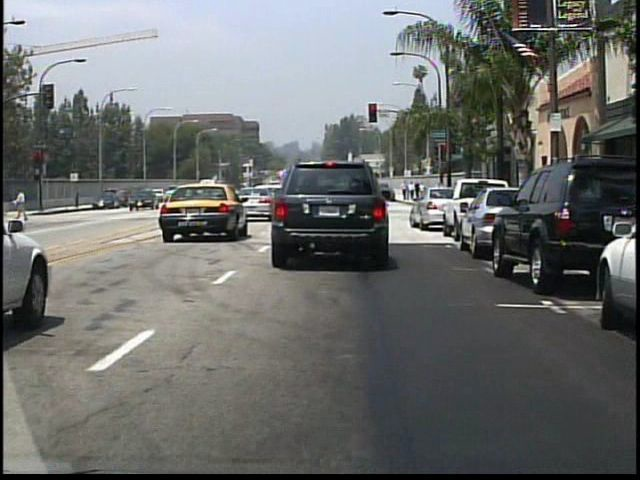person: (430, 178, 450, 214), (16, 187, 31, 222), (419, 180, 427, 204), (409, 180, 417, 203), (401, 179, 409, 201)
